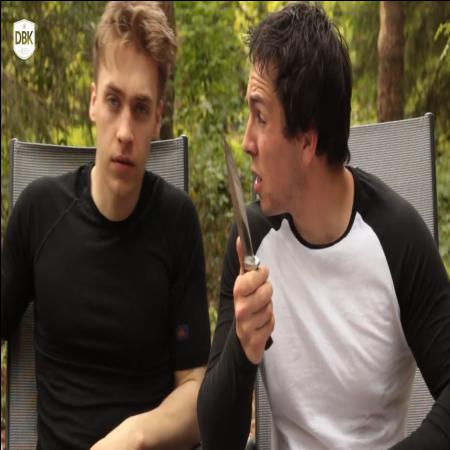long weapon: (220, 128, 280, 366)
